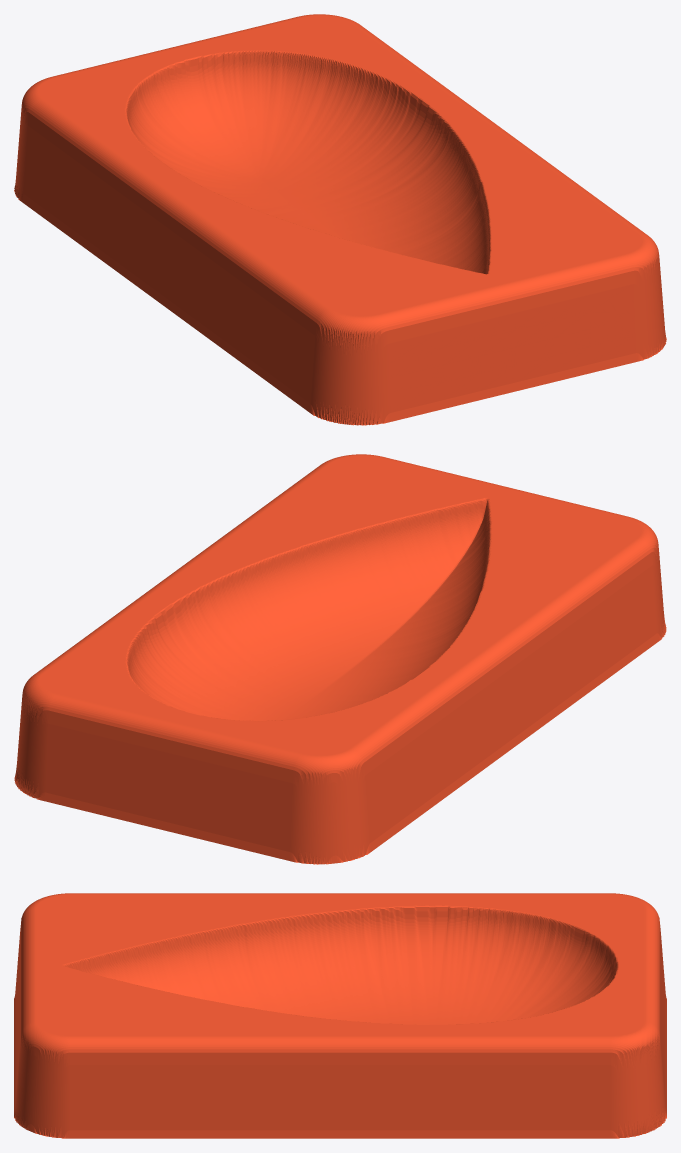
Rendered from mold.glb.
3 renders of one model, top to bottom at view 1: azimuth 30°, elevation 25°; view 2: azimuth 150°, elevation 25°; view 3: azimuth 270°, elevation 25°, orthographic. The views are drawn at different scales.
Visible parts, largest first — view 1: geometry_0; view 2: geometry_0; view 3: geometry_0.
Part boxes in pixels (box(x1,y1,x2,y2)): geometry_0: box(14, 14, 666, 425); geometry_0: box(14, 454, 666, 864); geometry_0: box(14, 893, 666, 1138).
Bounding box in the file's own units: 0.061 × 0.0165 × 0.105.
